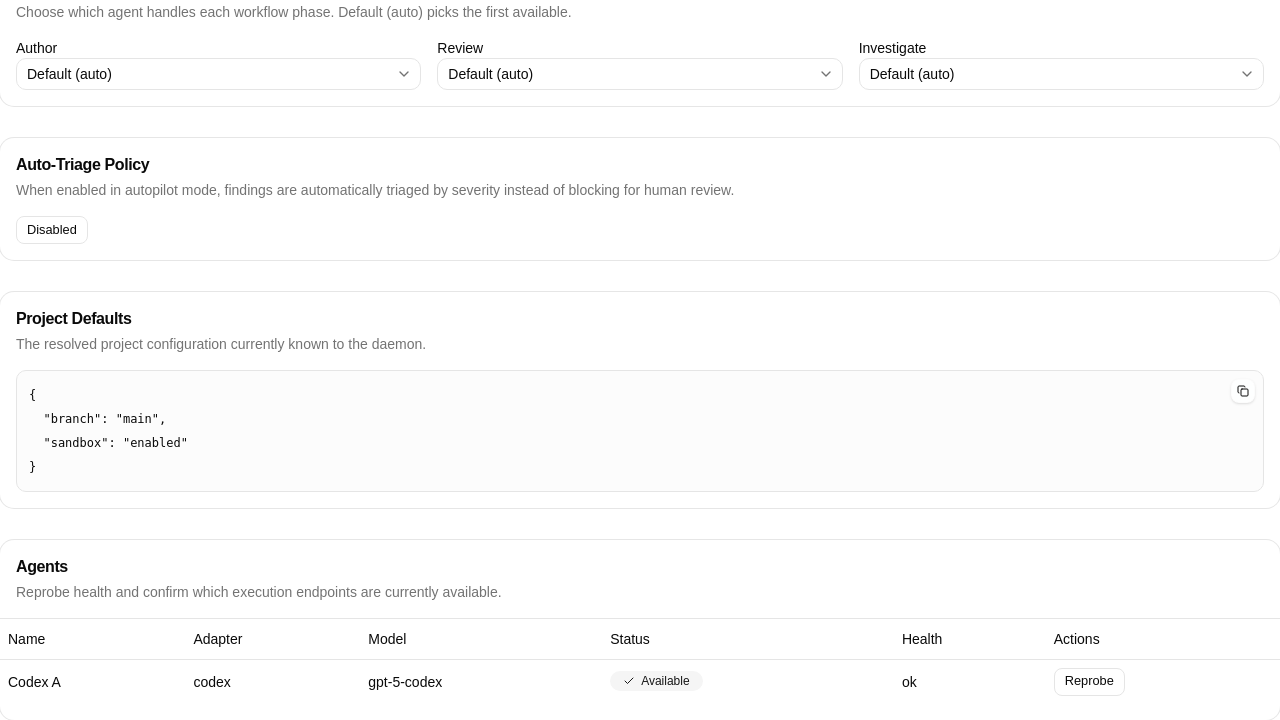
Test: ConfigPage › renders reprobe failures in a toast
(page scrolled)
Step 1. Click the button "Reprobe" → (1089,682), box [1054,668,1125,696]
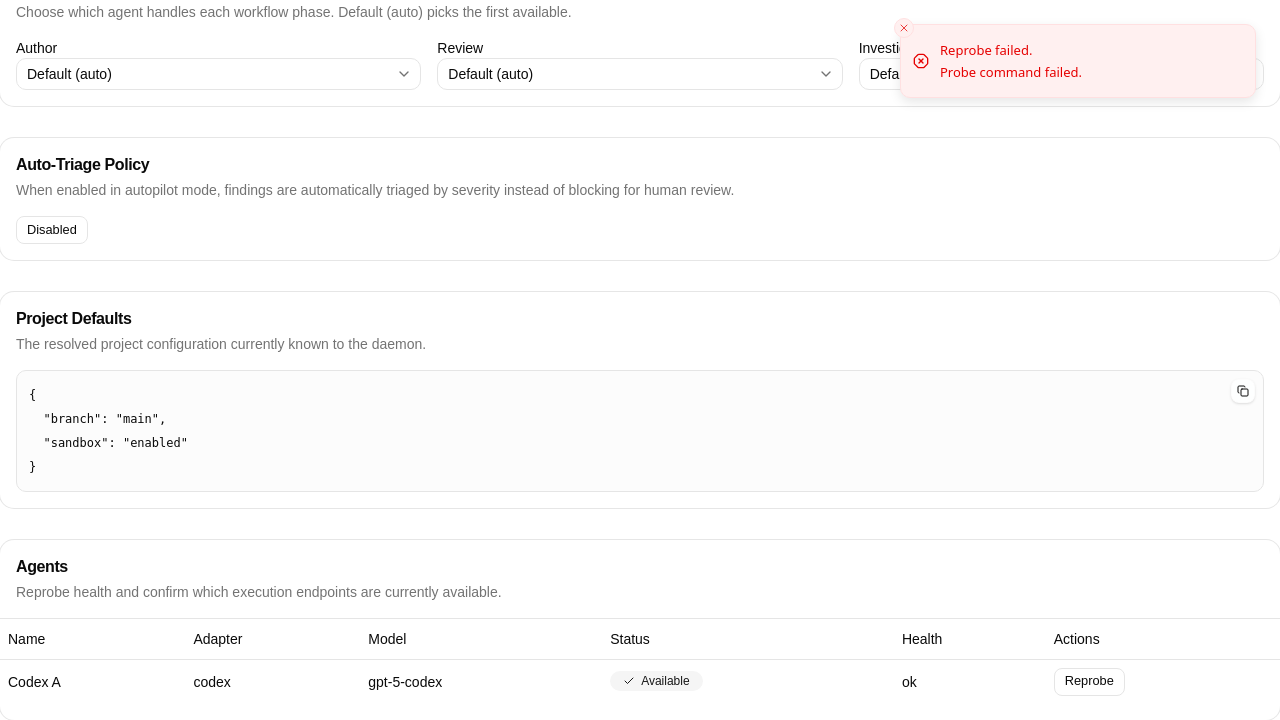
Result: the text "Reprobe failed." is shown at [940,41,1032,59]
Result: the text "Probe command failed." is shown at [940,62,1082,81]
